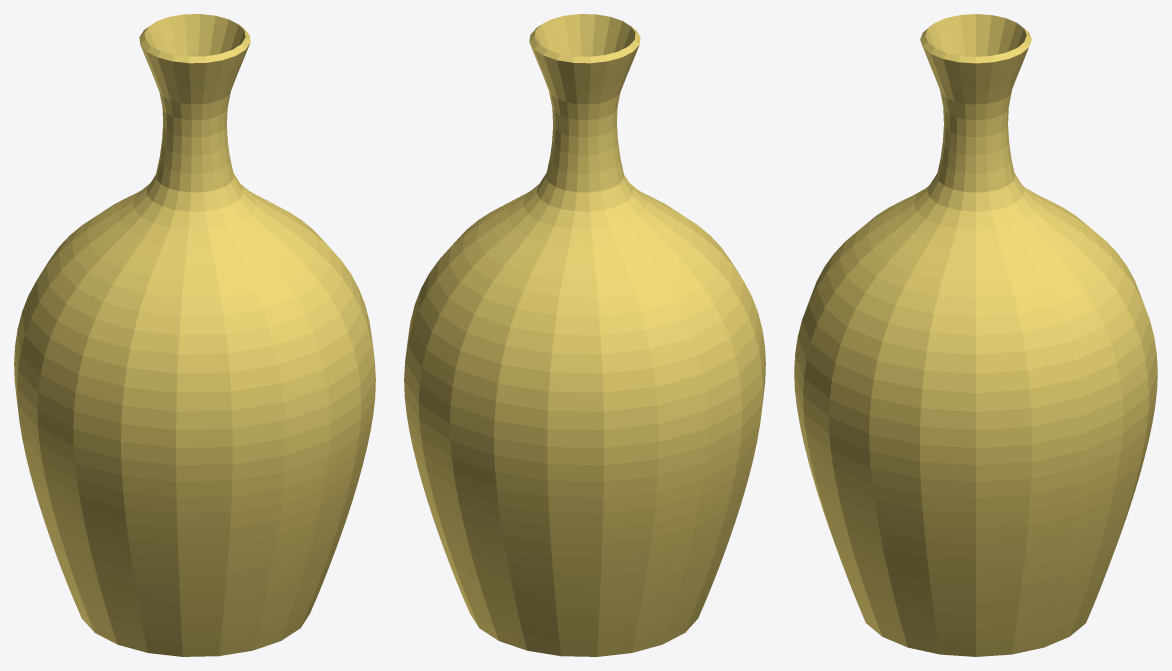
File: Vase.glb
The picture shows the model from 3 angles, left to right: view 1: azimuth 30°, elevation 25°; view 2: azimuth 150°, elevation 25°; view 3: azimuth 270°, elevation 25°; orthographic projection.
Visible parts, largest first — view 1: node-0; view 2: node-0; view 3: node-0.
Boxes of the visible parts, bbox=[...] form: node-0: bbox=[14, 14, 375, 656]; node-0: bbox=[404, 14, 765, 656]; node-0: bbox=[794, 14, 1157, 656].
Bounding box in the file's own units: 0.2842 × 0.4943 × 0.2842.
